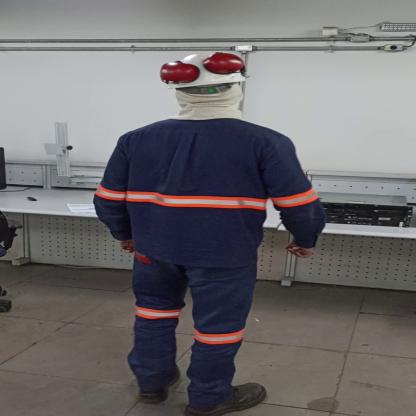Balaclava: (172, 88, 246, 122)
Capacete: (156, 52, 250, 88)
